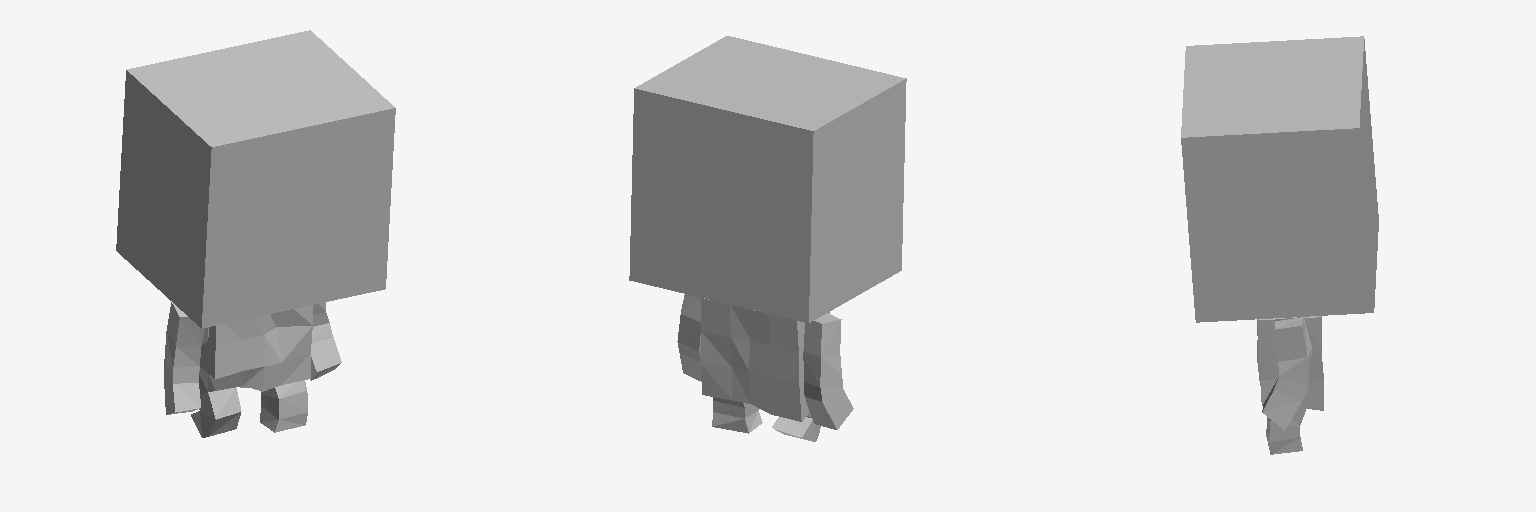
Rendered from boxman-animation-hodba_000008.obj.
3 views of the same model, side by side, from view 1: azimuth 30°, elevation 25°; view 2: azimuth 150°, elevation 25°; view 3: azimuth 270°, elevation 25° (orthographic).
Parts seen in each view (by area): view 1: Cube; view 2: Cube; view 3: Cube.
Part boxes in pixels (x1,y1,x2,y2): Cube: (116,30,395,437); Cube: (629,36,906,441); Cube: (1181,36,1378,454).
Size of the model in its own units: 2.11 by 3.79 by 1.92.